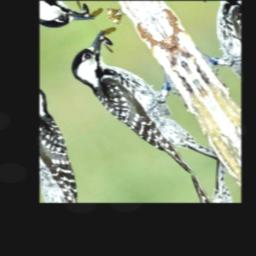Woodpecker: (58, 14, 224, 194)
